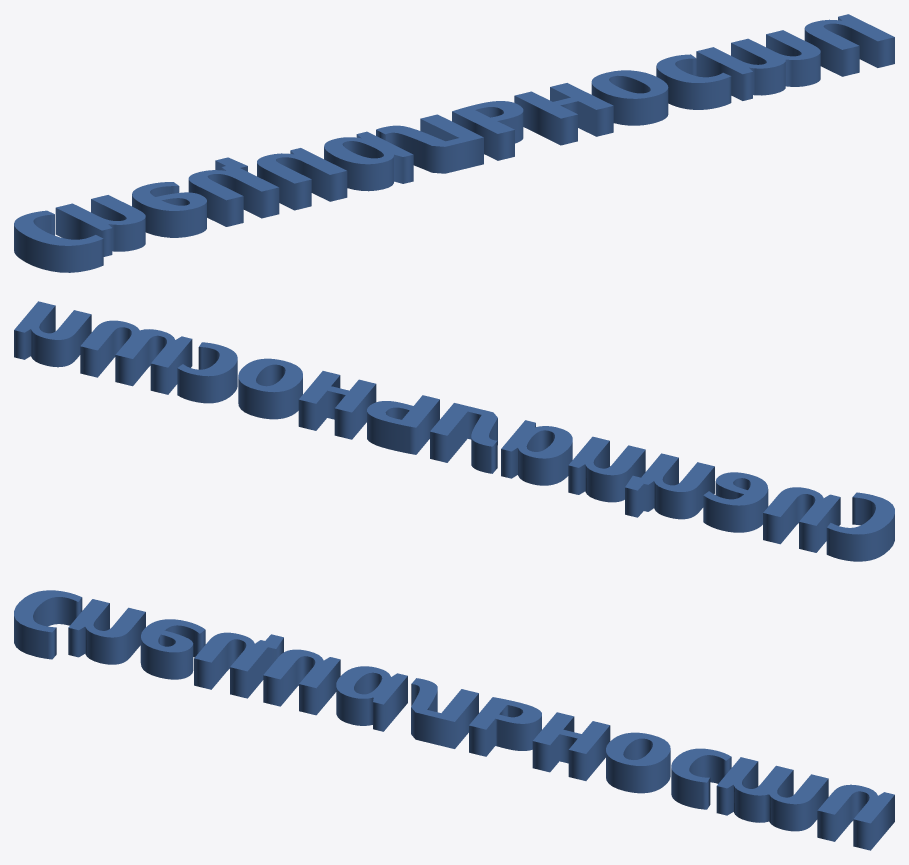
The model's file is specialty.glb.
The picture shows the model from 3 angles, top to bottom: view 1: azimuth 30°, elevation 25°; view 2: azimuth 150°, elevation 25°; view 3: azimuth 330°, elevation 25°; orthographic projection.
Parts seen in each view (by area): view 1: Text.003; view 2: Text.003; view 3: Text.003.
Part boxes in pixels (bbox=[...]): Text.003: bbox=[14, 14, 894, 272]; Text.003: bbox=[14, 301, 894, 561]; Text.003: bbox=[14, 590, 894, 850].
Bounding box in the file's own units: 7.78 × 0.2338 × 0.842.
